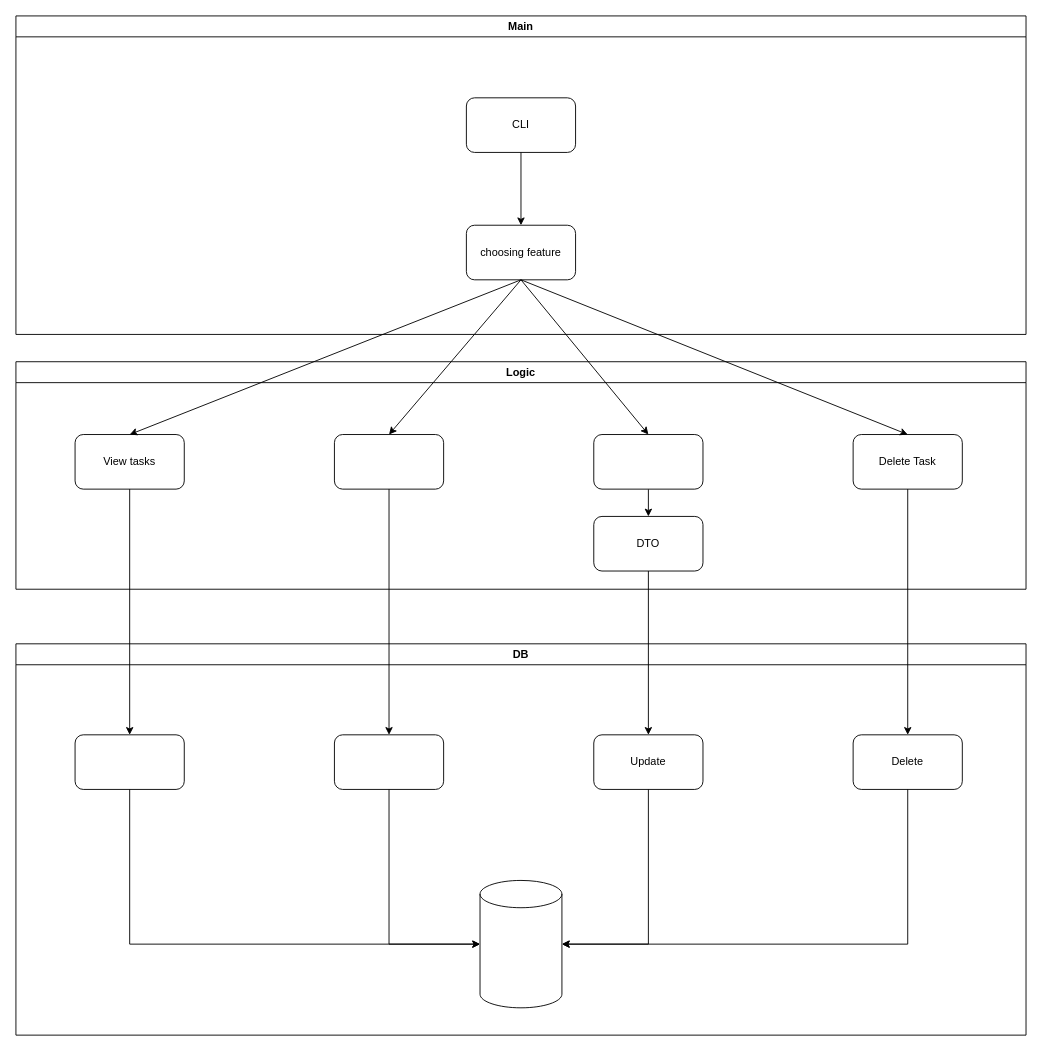
This 1042x1051 diagram has some shape labels left out. The shapes that lost their labels are listed below. From the top down, each one's centre as x and y in pixels, then its label:
the point at 389,461: Add task
the point at 648,461: Update task
the point at 129,761: Get all
the point at 389,761: Save
the point at 520,944: Task Struct
